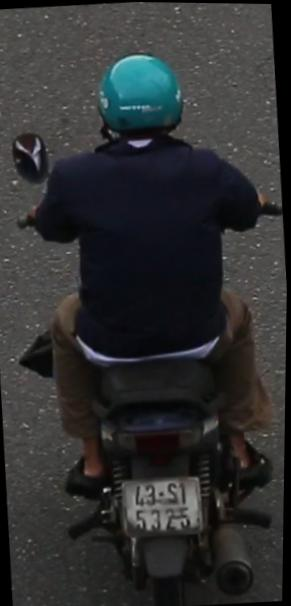LP: (115, 471, 211, 547)
helmet: (90, 43, 192, 168)
